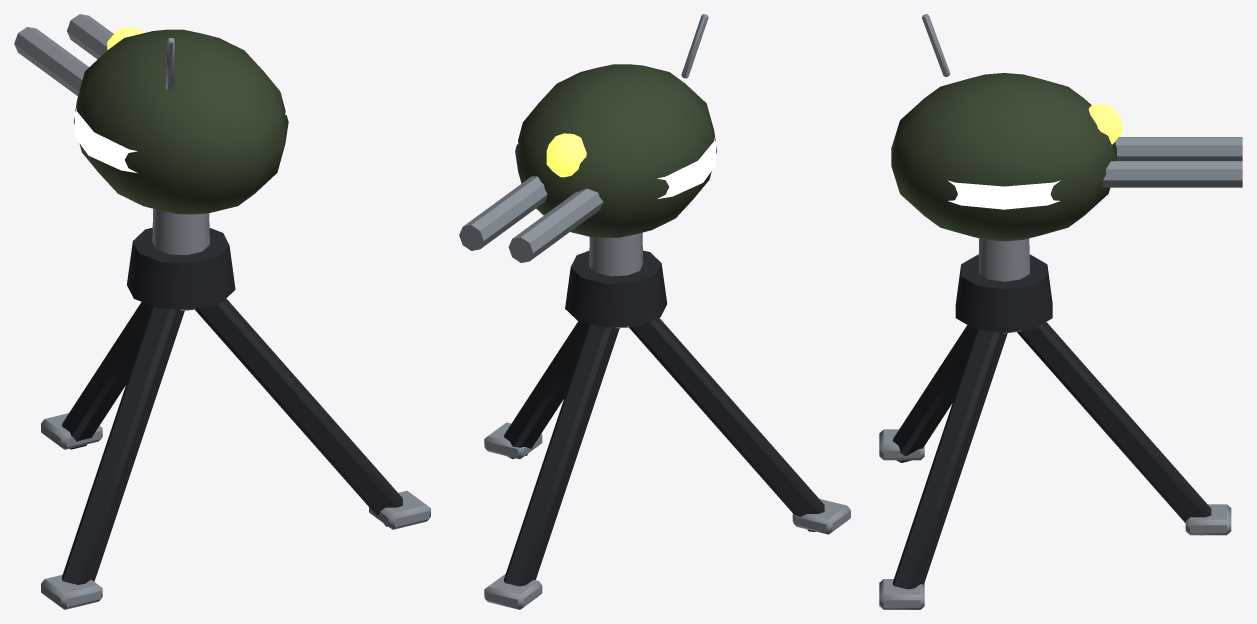
The model's file is prop_turret.glb.
The picture shows the model from 3 angles, left to right: view 1: azimuth 30°, elevation 25°; view 2: azimuth 150°, elevation 25°; view 3: azimuth 270°, elevation 25°; orthographic projection. The views are drawn at different scales.
Parts seen in each view (by area): view 1: head, turret; view 2: head, turret; view 3: head, turret.
Boxes of the visible parts, bbox=[...] form: head: bbox=[14, 14, 288, 214]; turret: bbox=[41, 209, 430, 609]; head: bbox=[459, 14, 716, 262]; turret: bbox=[484, 232, 850, 609]; head: bbox=[891, 14, 1242, 241]; turret: bbox=[879, 238, 1231, 609].
Bounding box in the file's own units: 0.7035 × 0.9602 × 0.64.
